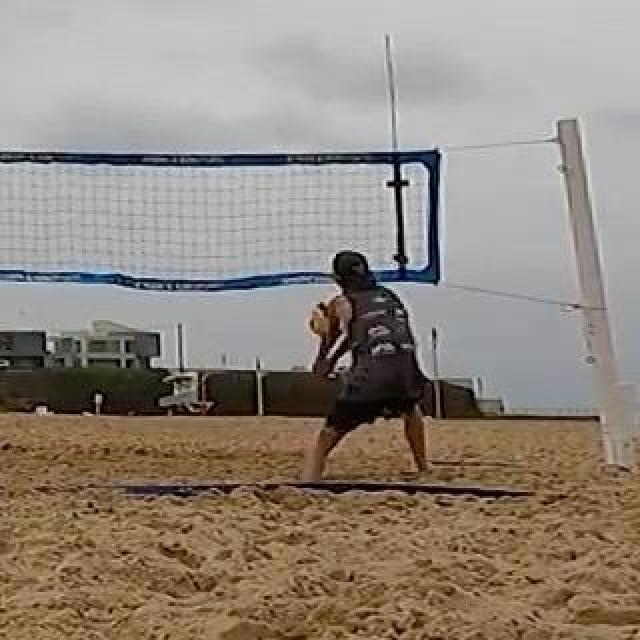volleyball: (307, 299, 347, 337)
